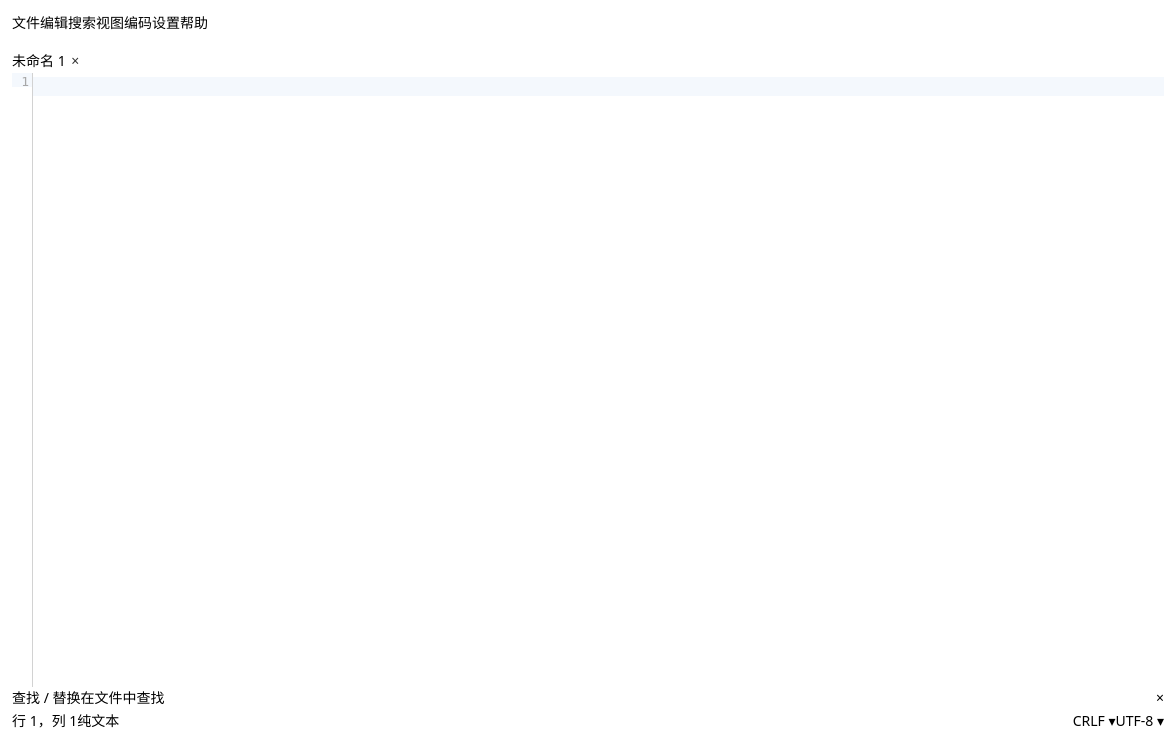
AppShell › 菜单「行号」开关装卸行号栏，且不重建编辑区（FR-20）
This screenshot has width=1176, height=732.
Expected: the element with class "cm-gutters" is shown, 12,73 -> 33,687
Click the menu item with class "top" showing "视图": (110, 23) 96,12 -> 124,34
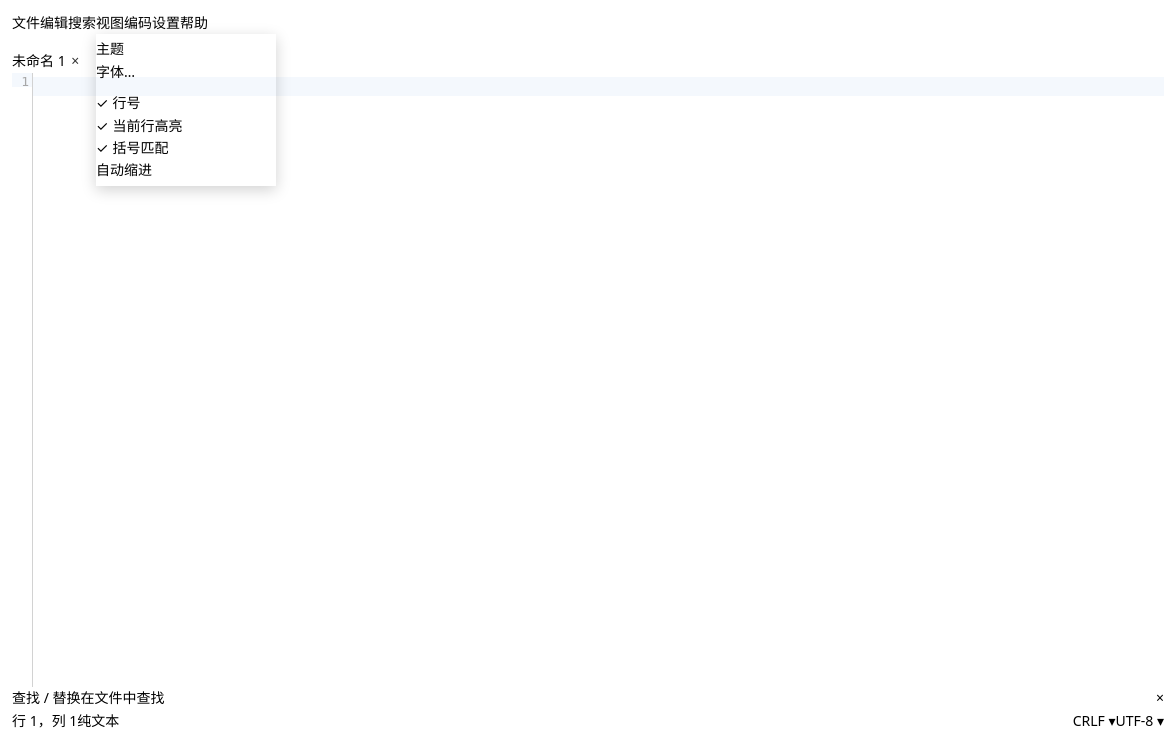
Click the menu item "✓行号": (118, 103) 96,93 -> 140,112
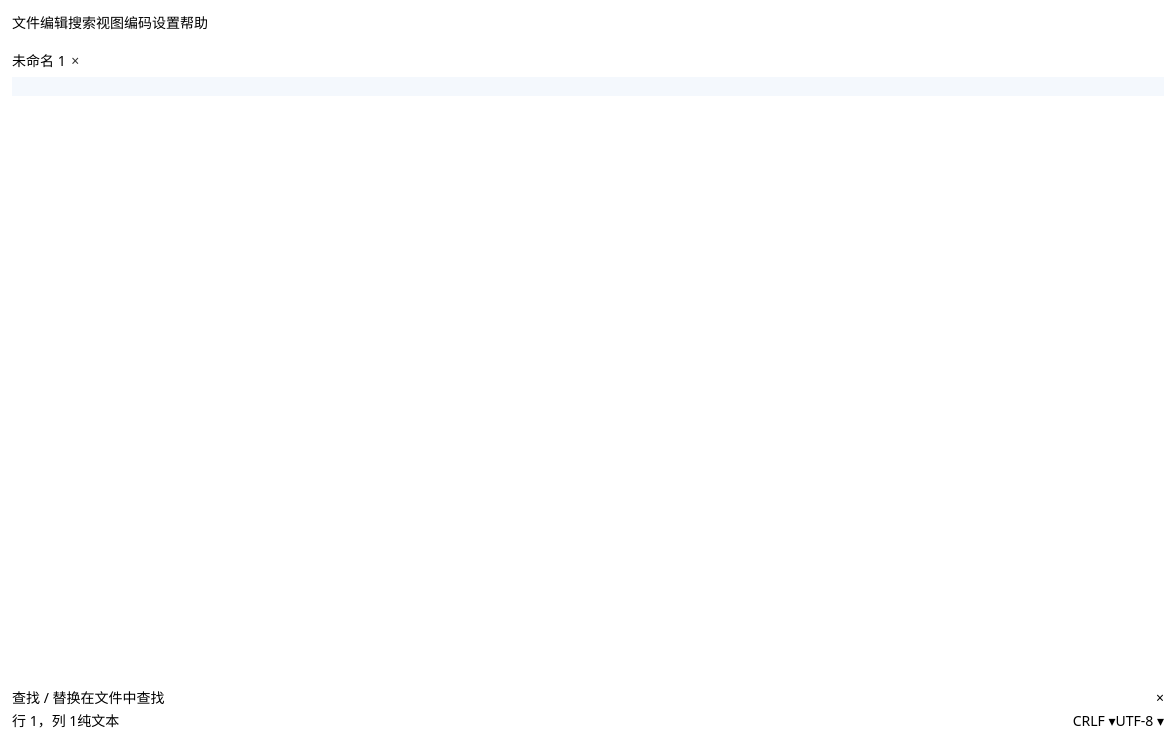
Click the menu item with class "top" showing "视图": (110, 23) 96,12 -> 124,34
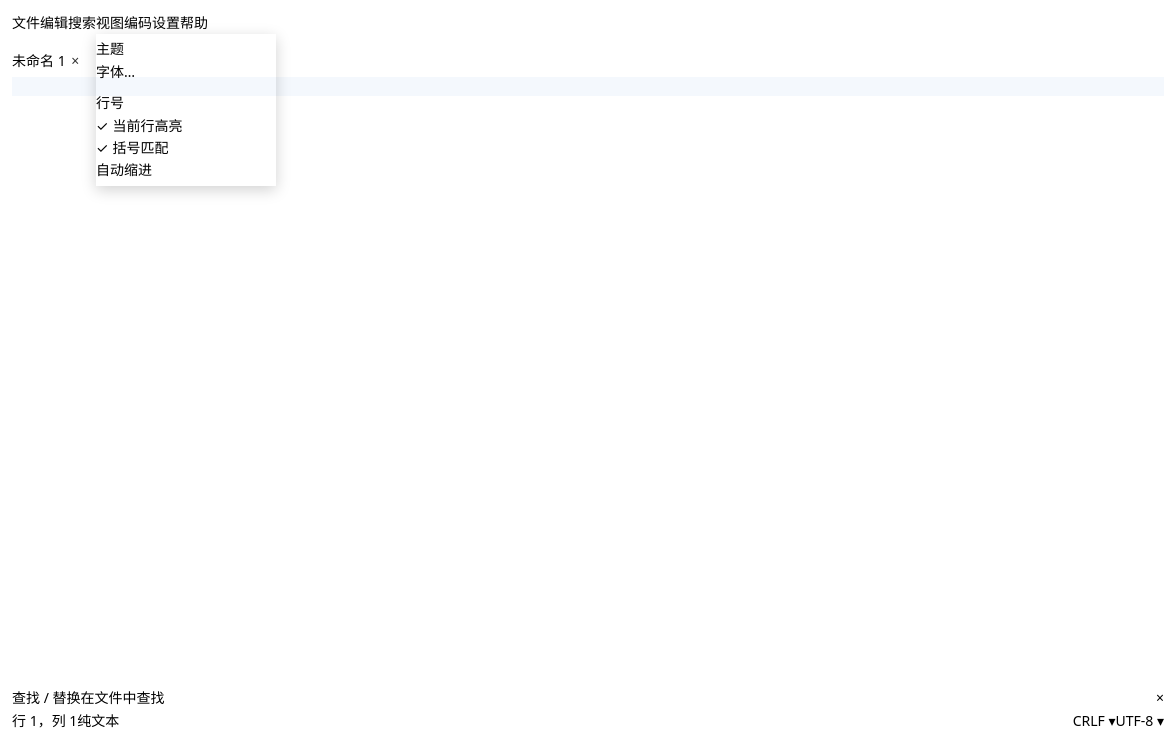
Click the menu item "行号": (110, 103) 96,93 -> 124,112
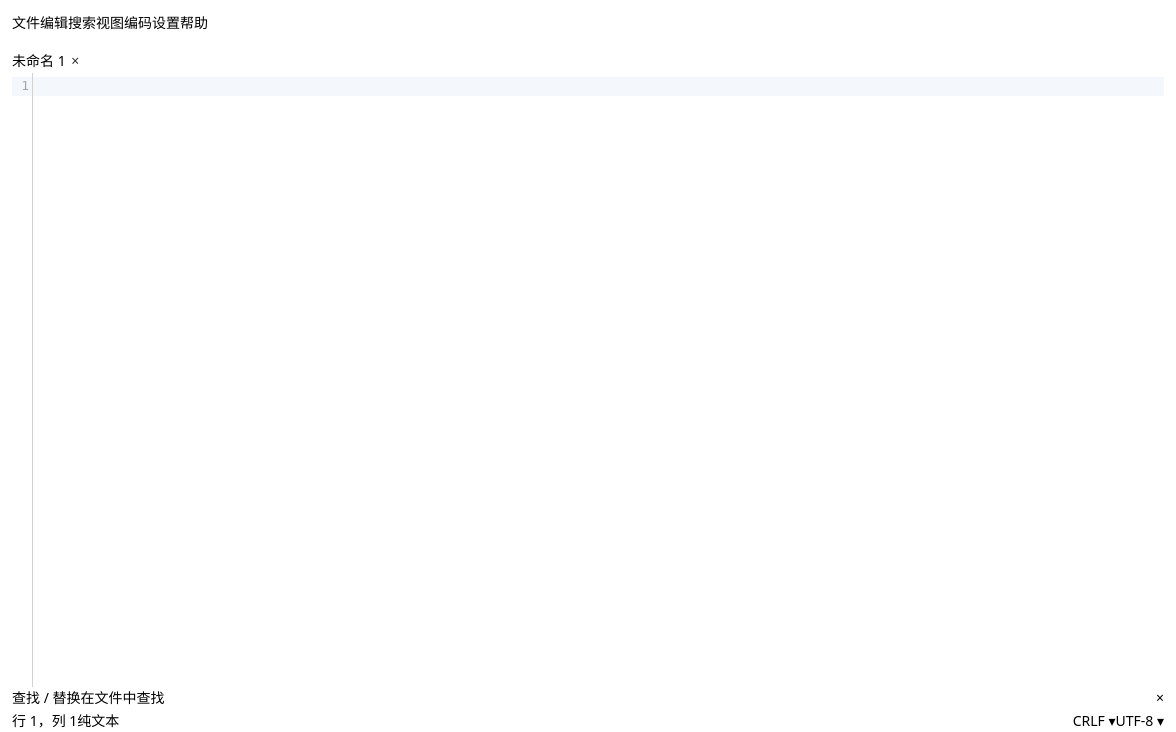
Expected: the element with class "cm-gutters" is shown, 12,73 -> 33,687
